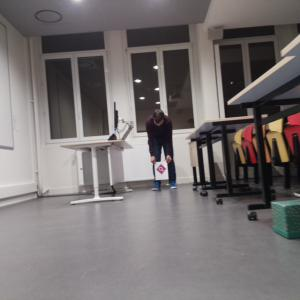search: (156, 162, 166, 175)
